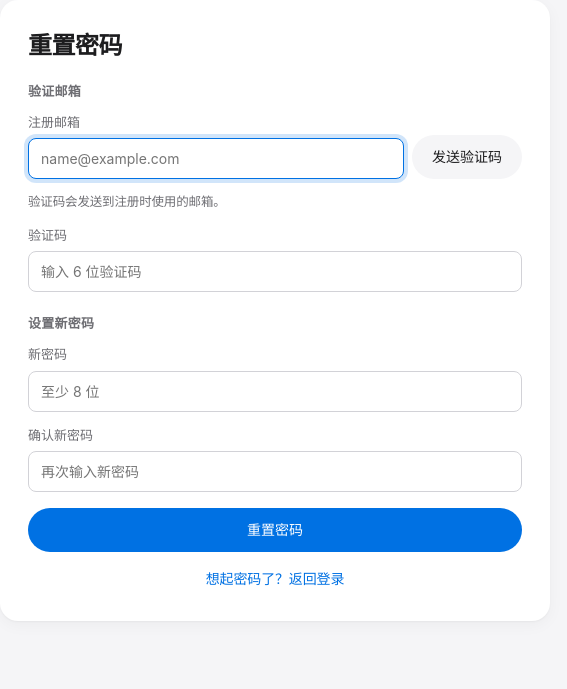
Test: P02 忘记密码 › 新密码过短或两次不一致时不提交
Type "student@example.com" into the field labelled "注册邮箱". click: (216, 158)
box: [28,138,404,179]
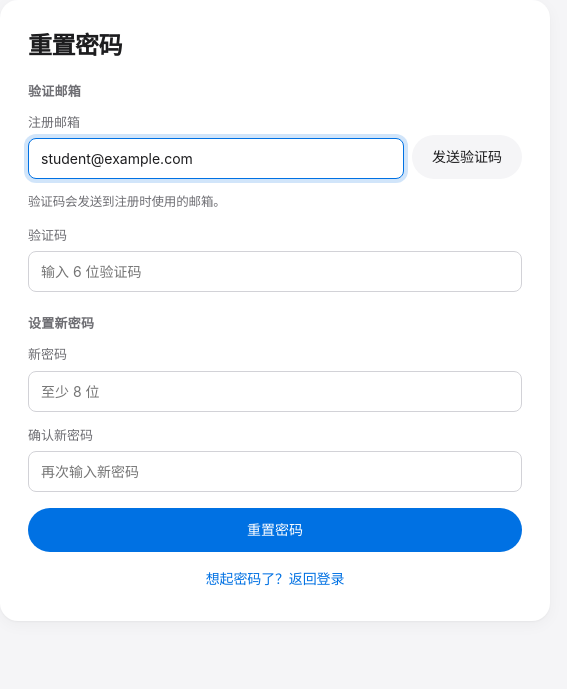
Type "123456" into the field labelled "验证码". click: (275, 272)
box: [28,251,522,292]
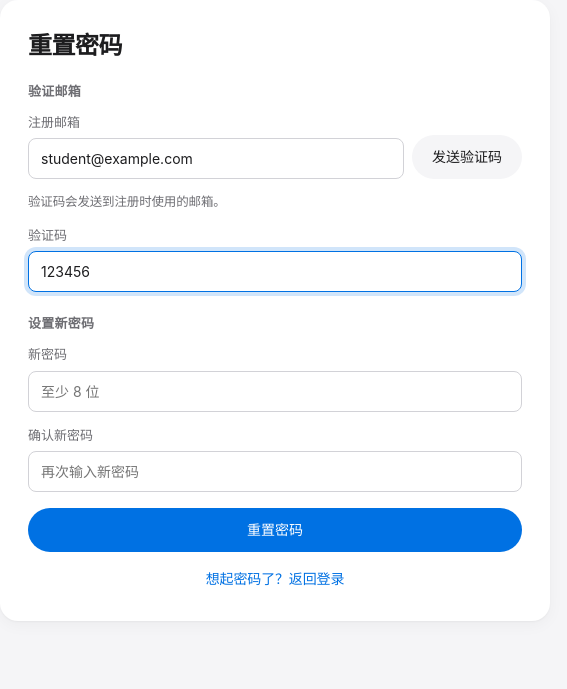
Type "short" into the password field labelled "新密码". click: (275, 391)
box: [28,371,522,412]
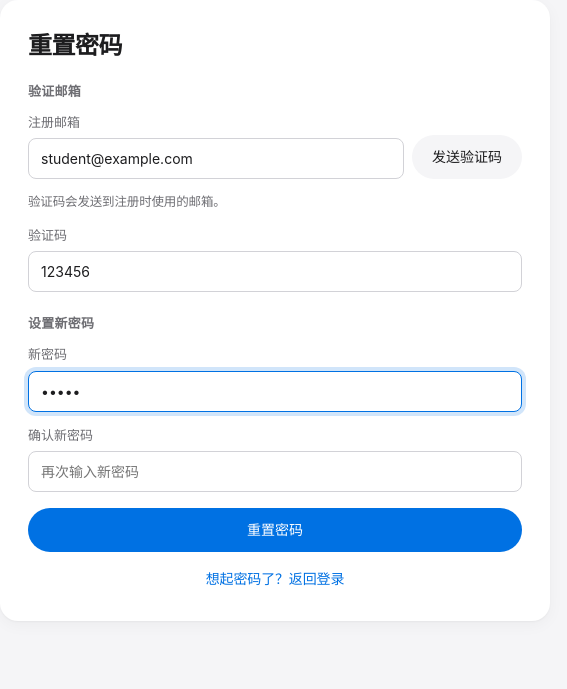
Type "different" into the password field labelled "确认新密码". click: (275, 472)
box: [28,451,522,492]
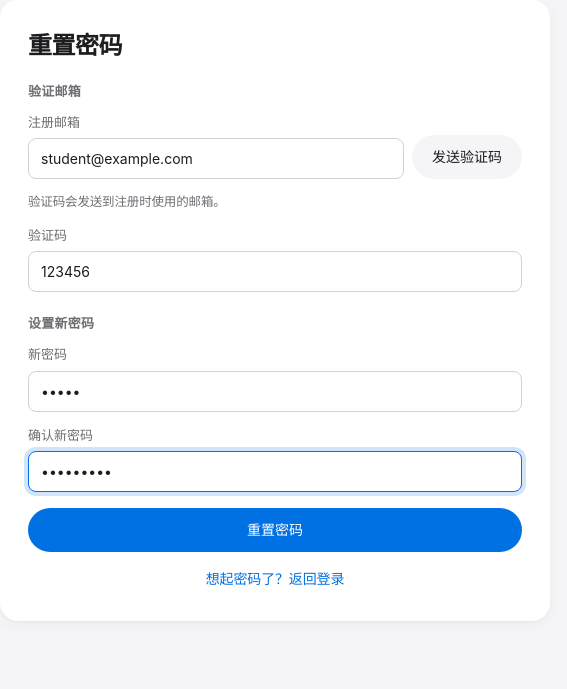
Click the button with test id "forgot-submit". click: (275, 530)
box: [28,508,522,552]
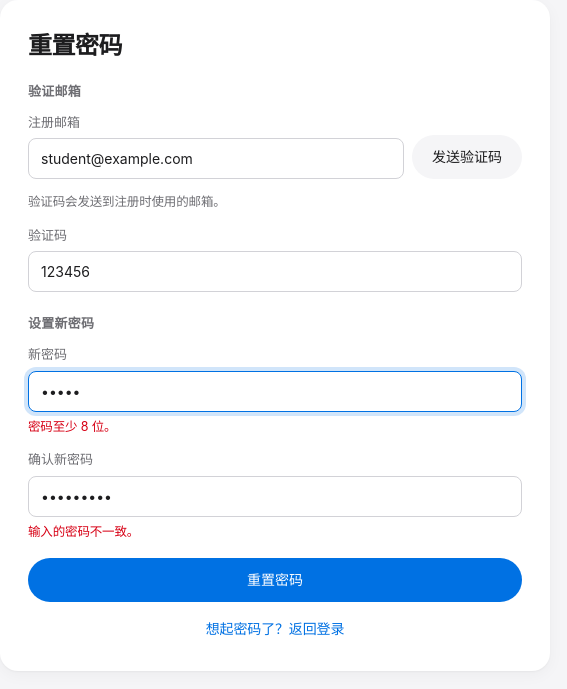
Result: the text "密码至少 8 位。" is shown at [28,419,116,434]
Result: the text "输入的密码不一致。" is shown at [28,524,139,539]
